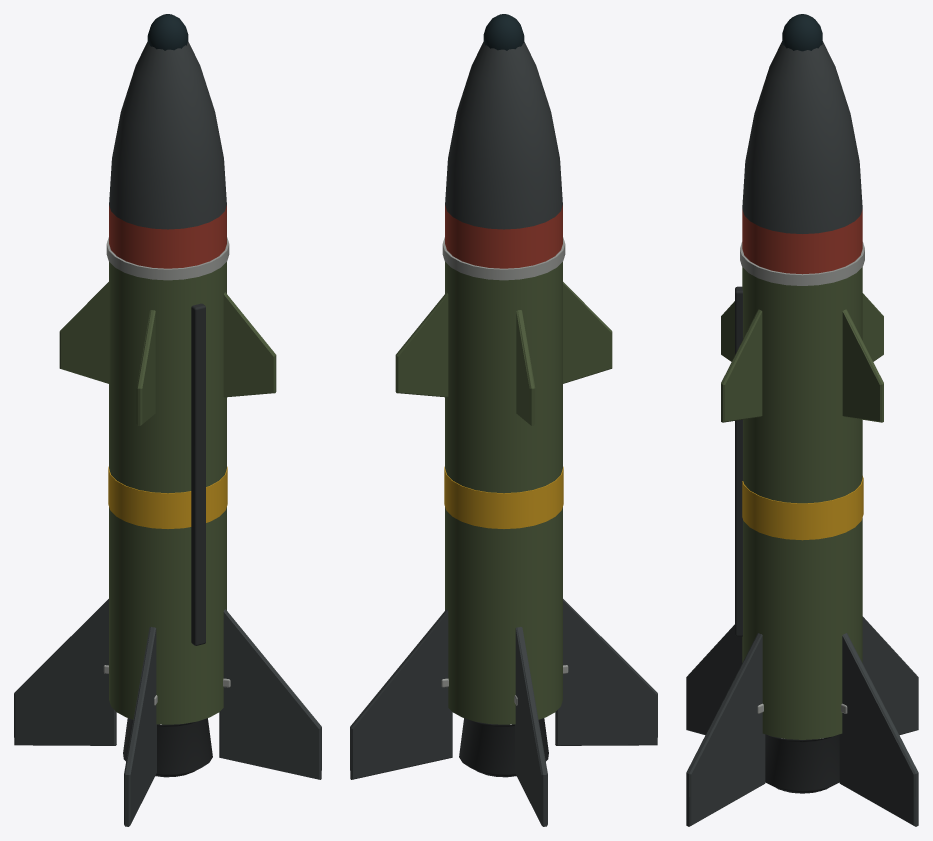
The model's file is missile.glb.
3 views of the same model, side by side, from view 1: azimuth 30°, elevation 25°; view 2: azimuth 150°, elevation 25°; view 3: azimuth 270°, elevation 25° (orthographic). The views are drawn at different scales.
Parts seen in each view (by area): view 1: paint-olive, paint-graphite, steel-dark, paint-red, hazard, steel, glass; view 2: paint-olive, paint-graphite, paint-red, hazard, steel-dark, steel, glass; view 3: paint-olive, paint-graphite, steel-dark, paint-red, hazard, steel, glass.
Boxes of the visible parts, x1,y1,x2,y2 form: paint-olive: (59,262,276,724); paint-graphite: (14,41,321,826); steel-dark: (123,303,212,777); paint-red: (109,205,226,268); hazard: (108,466,227,528); steel: (103,237,230,705); glass: (147,14,188,50); paint-olive: (395,262,612,724); paint-graphite: (350,41,657,826); paint-red: (445,205,562,268); hazard: (444,466,563,528); steel-dark: (459,718,548,777); steel: (441,237,568,705); glass: (483,14,524,50); paint-olive: (721,267,883,739); paint-graphite: (686,41,918,826); steel-dark: (735,286,839,793); paint-red: (742,209,862,274); hazard: (742,476,863,540); steel: (740,242,864,713); glass: (782,14,822,51).
Bounding box in the file's own units: 1.16 × 4.2 × 1.16.
